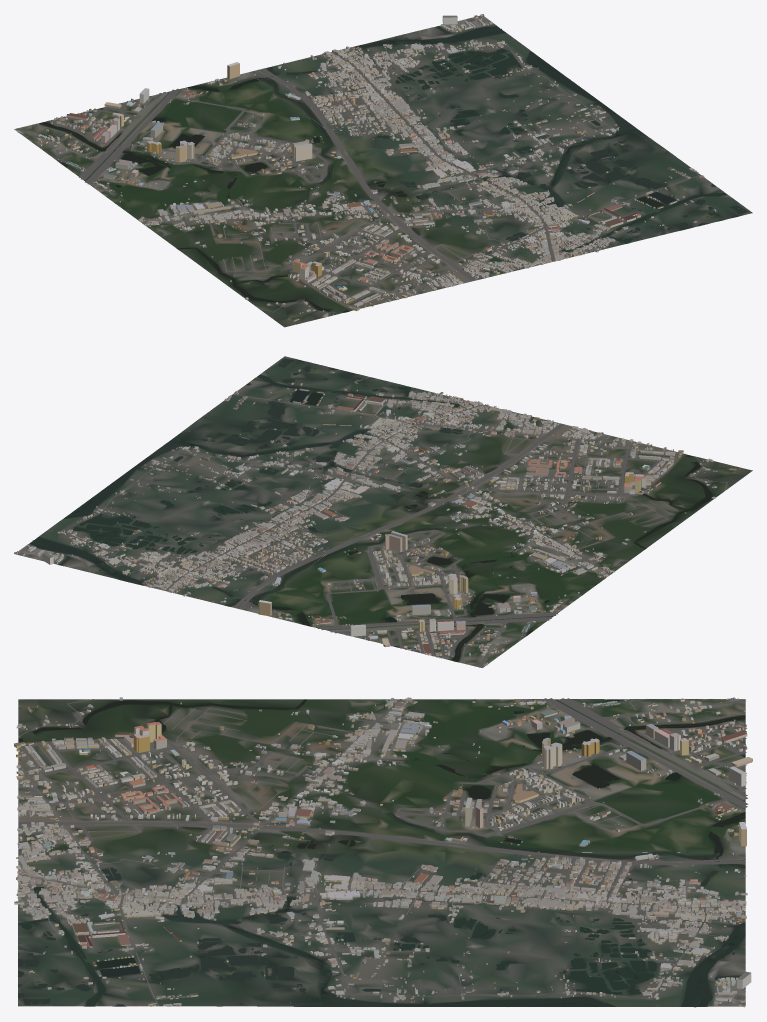
3 renders of one model, top to bottom at view 1: azimuth 30°, elevation 25°; view 2: azimuth 150°, elevation 25°; view 3: azimuth 270°, elevation 25°, orthographic. The views are drawn at different scales.
Visible parts, largest first — view 1: ground, buildings, water, roads; view 2: ground, buildings, water, roads; view 3: ground, buildings, water, roads.
Part boxes in pixels (bbox=[...]): ground: bbox=[14, 15, 752, 327]; buildings: bbox=[17, 14, 716, 321]; water: bbox=[39, 26, 747, 312]; roads: bbox=[16, 18, 700, 313]; ground: bbox=[17, 356, 752, 667]; buildings: bbox=[14, 369, 736, 665]; water: bbox=[30, 358, 712, 661]; roads: bbox=[18, 394, 727, 667]; ground: bbox=[18, 699, 745, 1006]; buildings: bbox=[14, 697, 752, 1007]; water: bbox=[18, 699, 745, 1007]; roads: bbox=[18, 698, 748, 1006].
Size of the model in its own units: 2815 by 88.21 by 2845.
